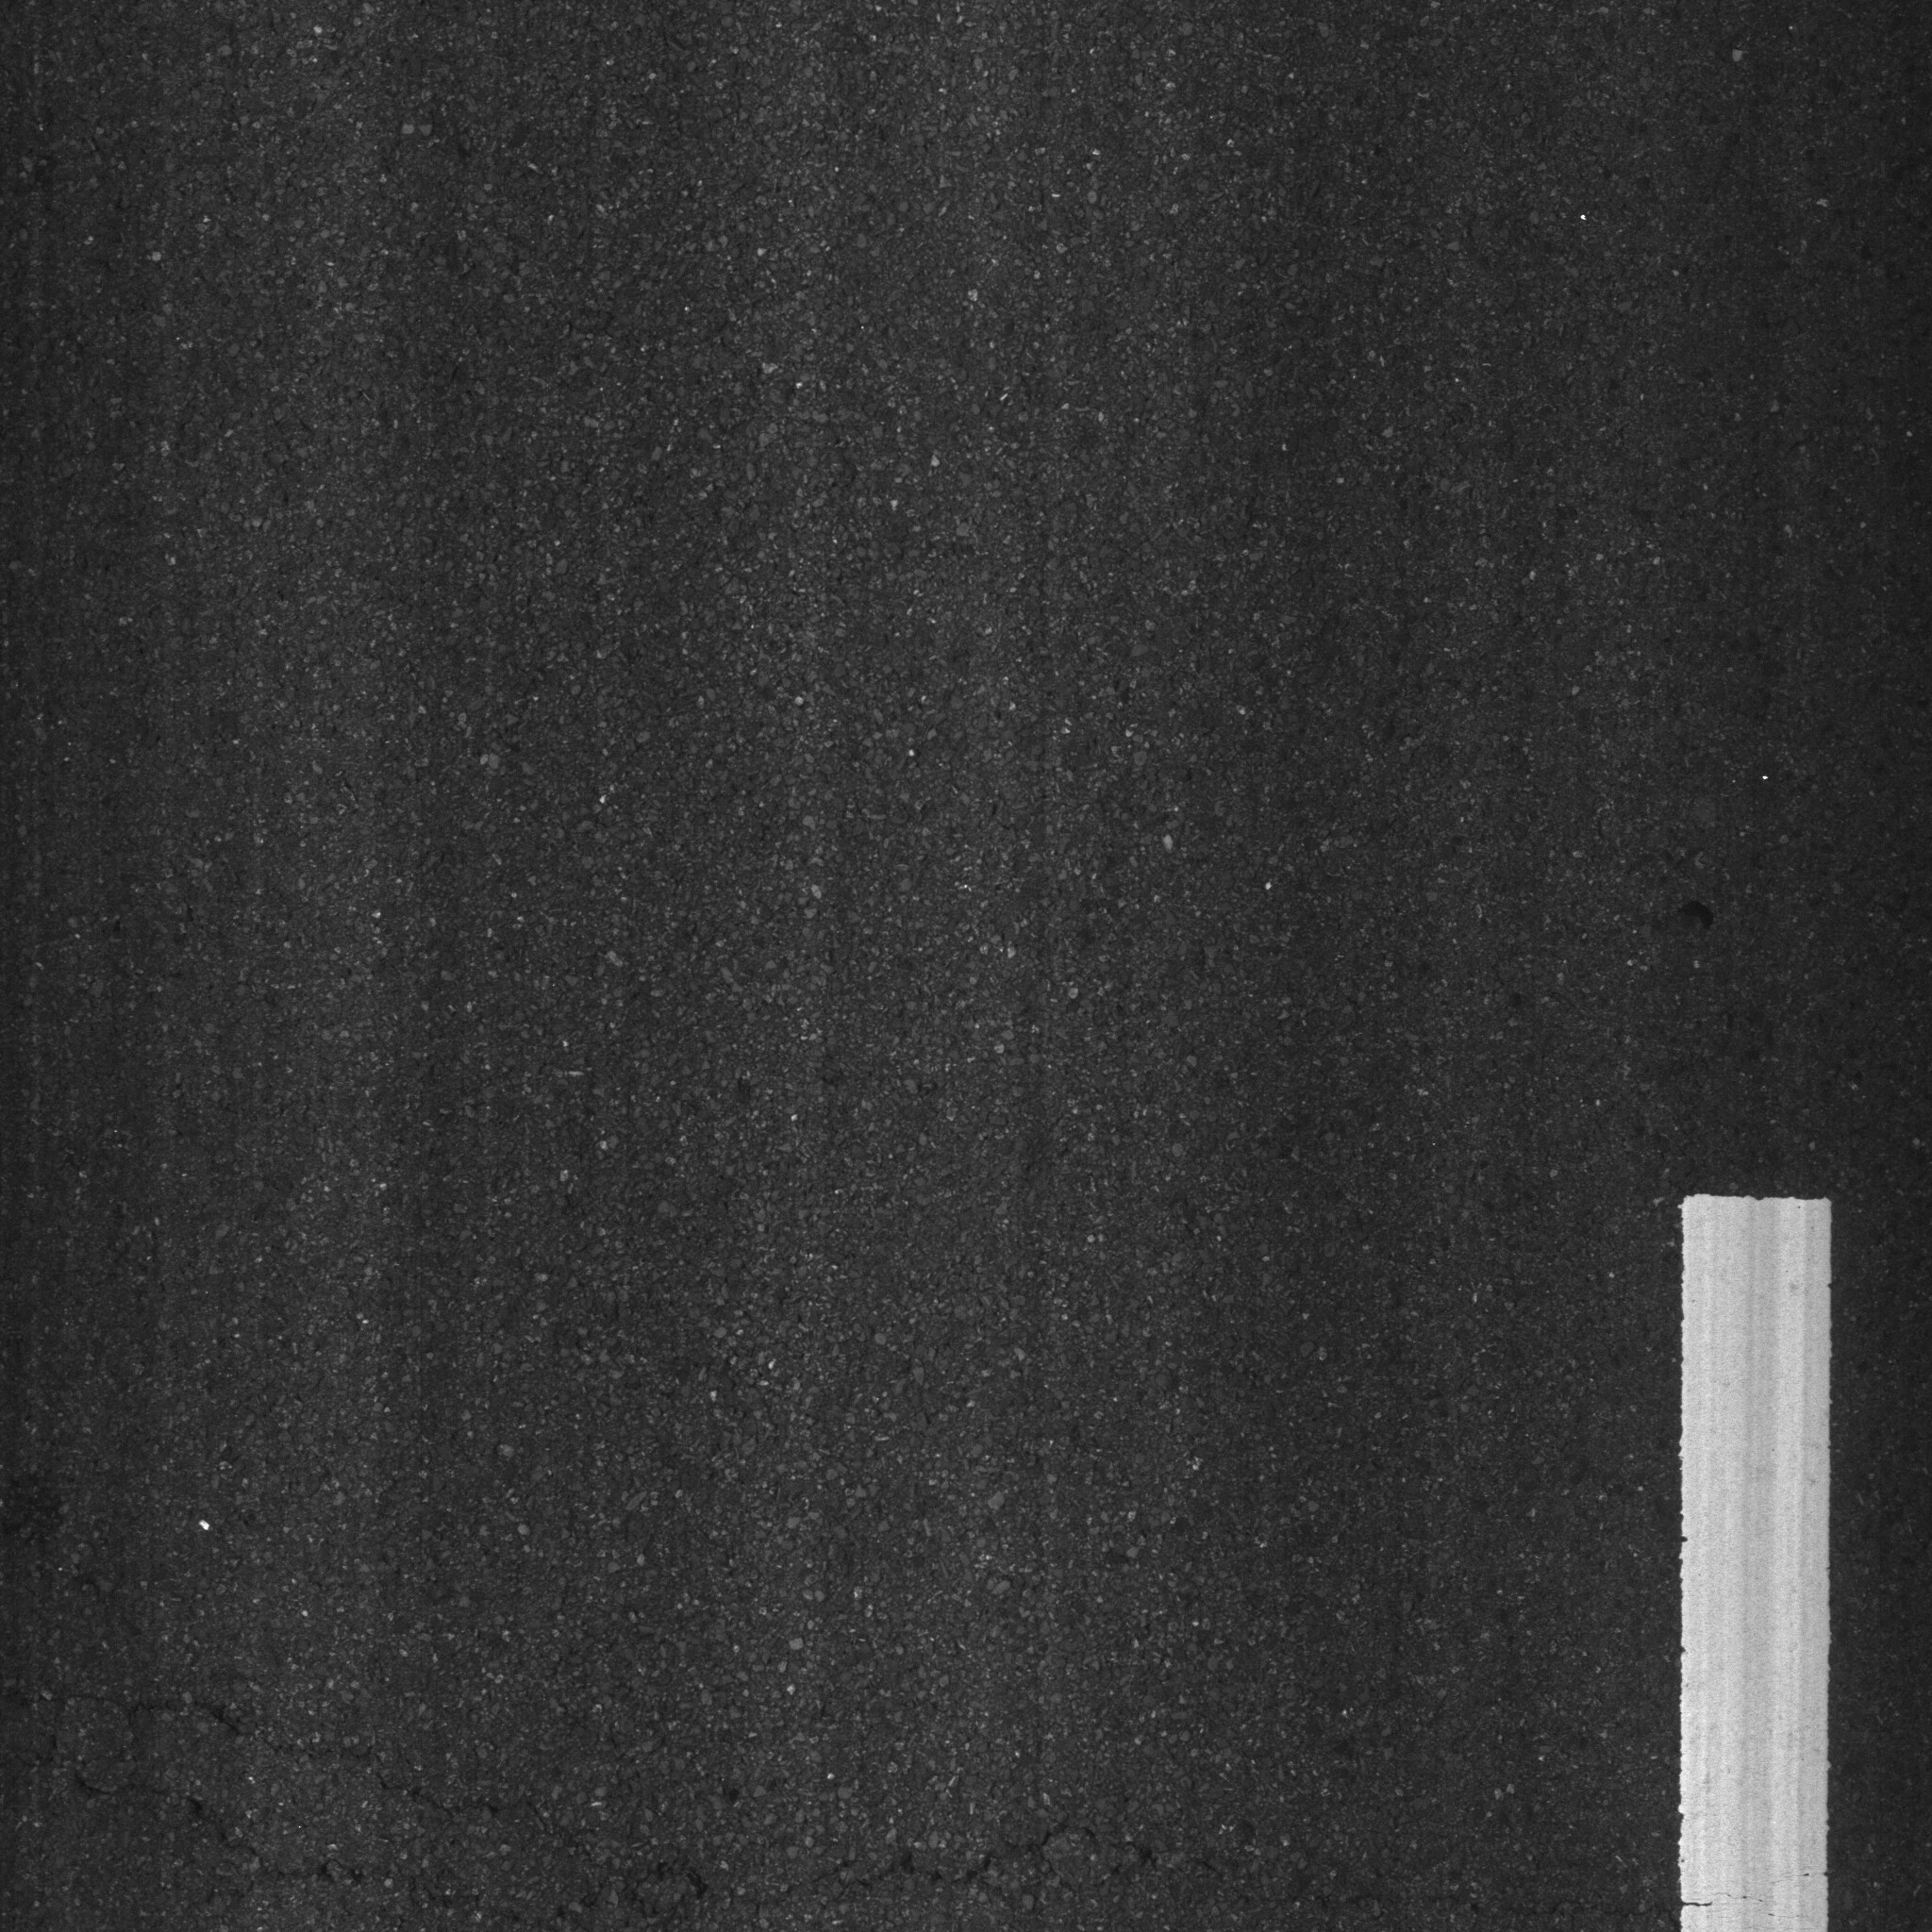transverse: (23, 1652, 1341, 1932)
